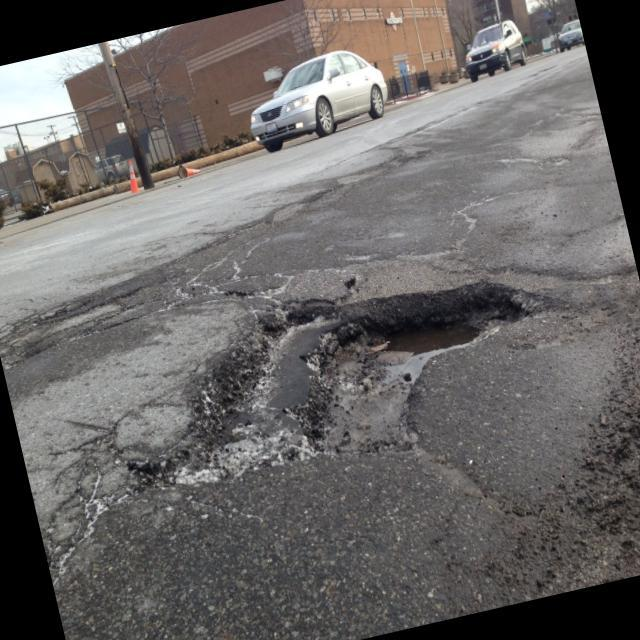Pothole: (96, 232, 547, 524), (0, 281, 145, 353)
